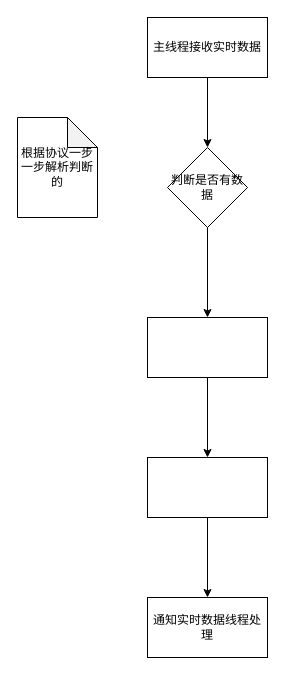
This 285x675 diagram has some shape labels left out. The shapes that lost their labels are listed below. From the top down, each one's centre as x and y in pixels, then its label:
(207,347): 存入A1-A8缓存
(207,487): 解析后存放到发送tsp缓存
